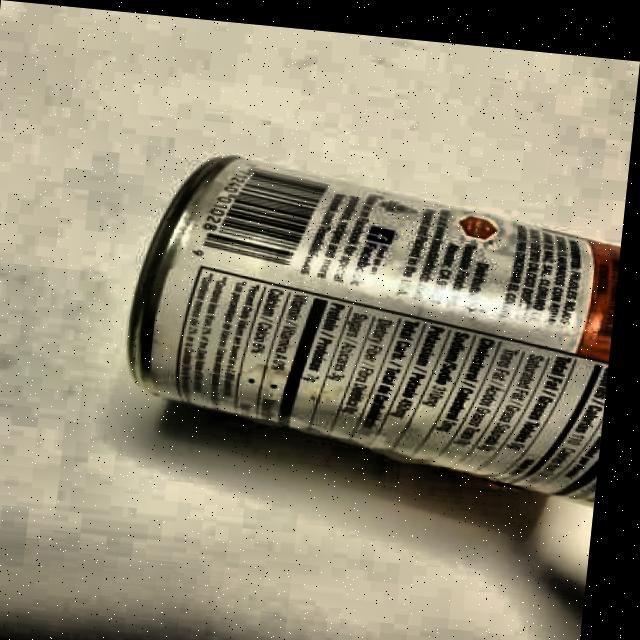metal: (112, 148, 626, 511)
